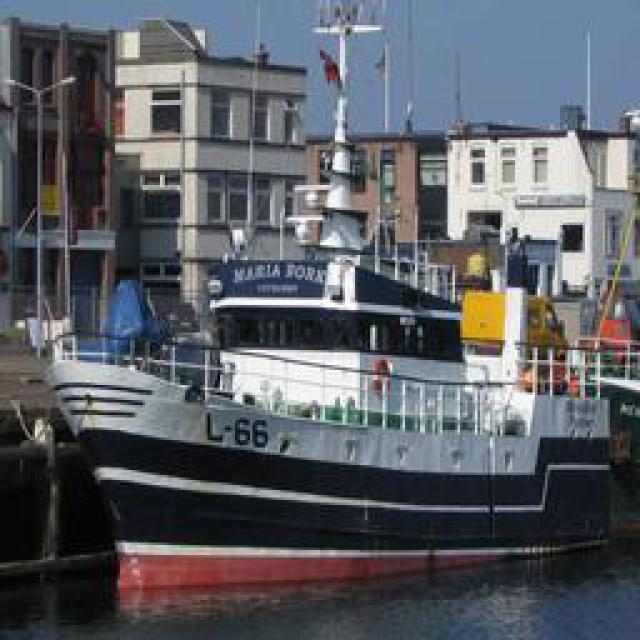Ship: (53, 234, 638, 564)
